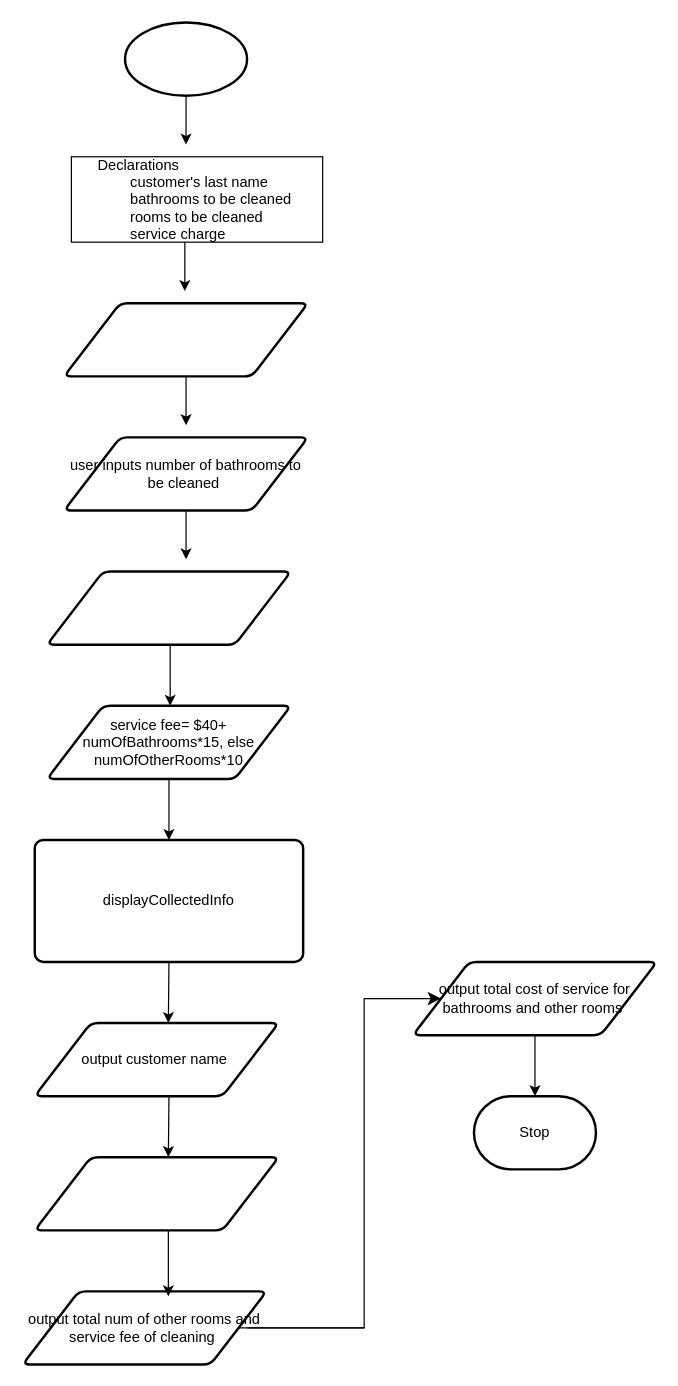
The diagram is 678 pixels wide and 1386 high, and some of its shapes have lost their labels. The box of each missing label's shape, as (x1, y1, x2, y2) in pixels:
input number of other rooms to be cleaned: (45, 570, 292, 645)
output total num of bathrooms and service fee of cleaning: (33, 1155, 279, 1231)
Start: (123, 21, 248, 96)
user inputs customers last name: (62, 301, 309, 377)
